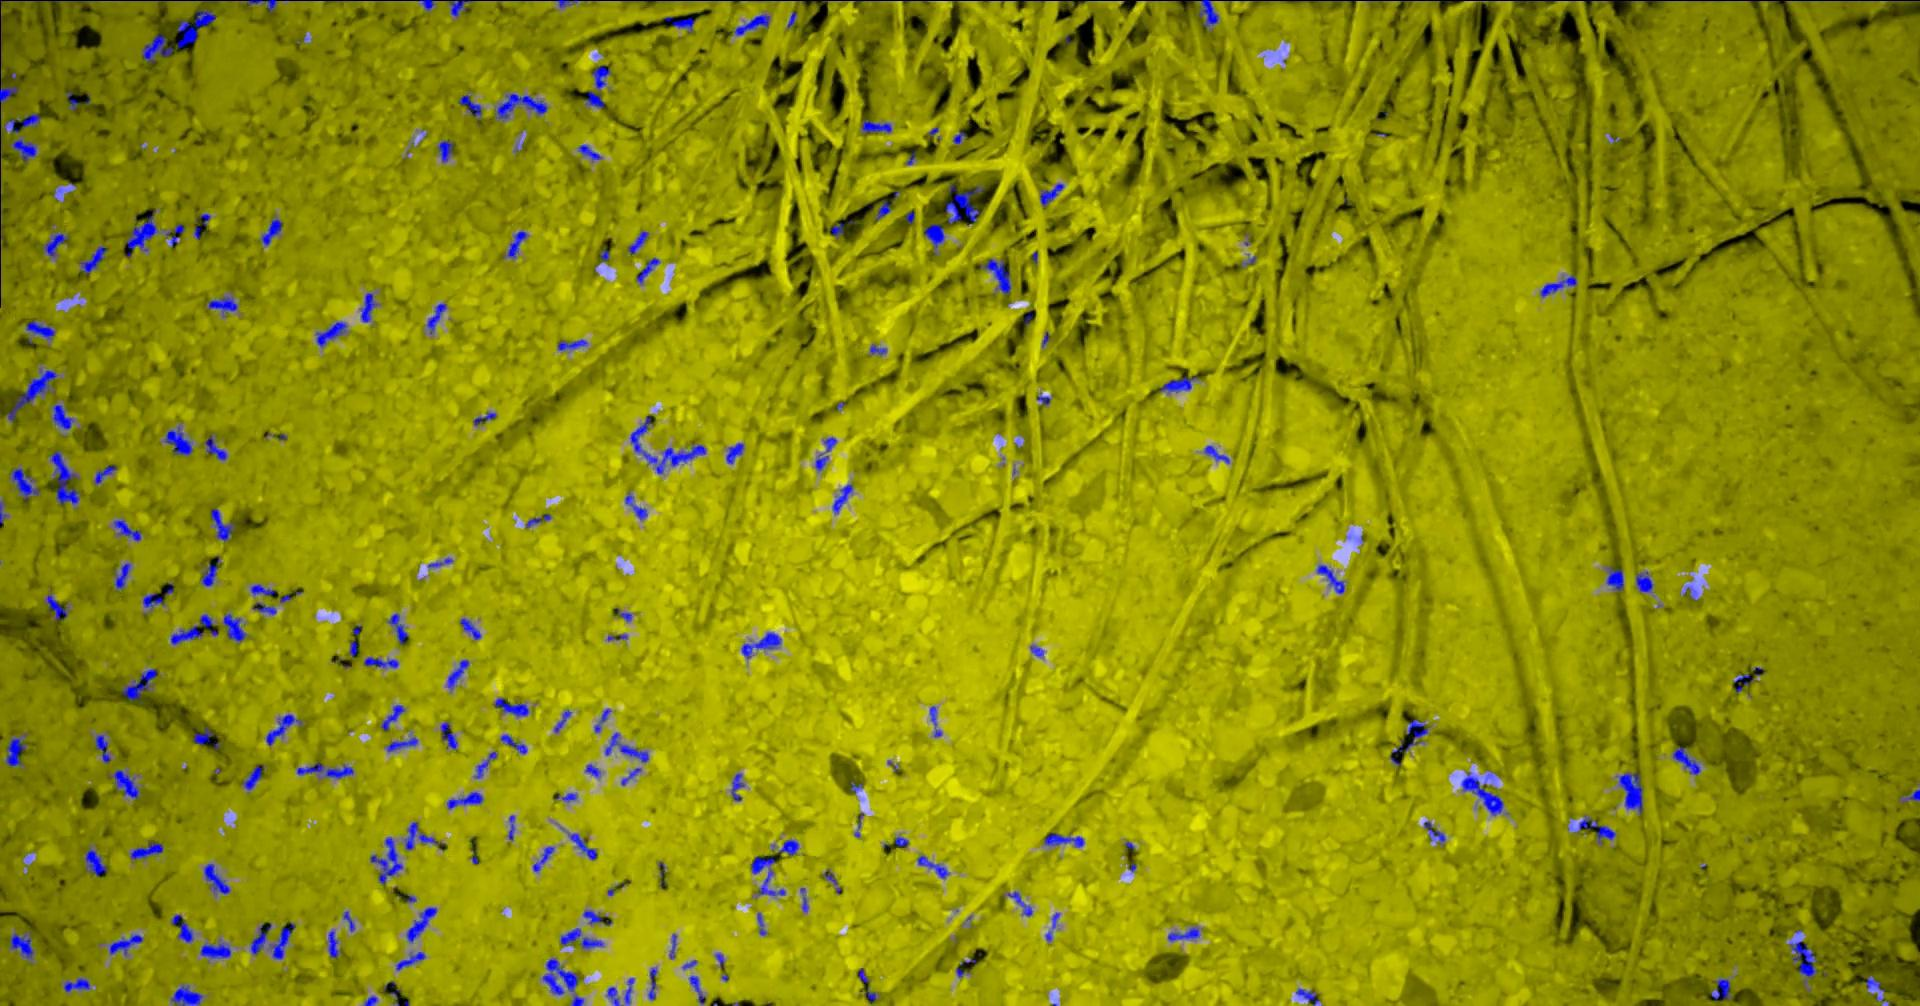ant: (631, 415, 707, 473), (9, 368, 58, 420), (1, 112, 42, 158), (1390, 718, 1429, 766), (1463, 772, 1505, 815), (50, 450, 81, 504), (946, 183, 985, 224), (371, 836, 404, 883), (178, 9, 217, 48), (127, 210, 159, 257), (752, 856, 787, 895), (497, 93, 549, 119), (543, 958, 580, 995), (606, 732, 650, 762), (267, 713, 303, 746), (1790, 940, 1818, 983), (123, 668, 157, 702), (1617, 772, 1644, 813), (408, 906, 438, 942), (406, 821, 446, 848), (982, 258, 1012, 293), (587, 65, 612, 107), (743, 633, 783, 658), (1580, 815, 1617, 843), (298, 762, 356, 779), (270, 922, 296, 959), (11, 467, 41, 499), (110, 768, 141, 798), (204, 862, 232, 894), (143, 34, 174, 62), (563, 927, 604, 948), (1542, 274, 1578, 297), (212, 507, 236, 541), (166, 426, 194, 455), (1318, 564, 1346, 593), (80, 245, 108, 273), (1674, 746, 1702, 774), (317, 321, 348, 347), (735, 14, 771, 36), (608, 977, 635, 1005), (569, 833, 598, 859), (918, 855, 950, 878), (817, 437, 838, 470), (110, 934, 143, 955), (505, 230, 530, 258), (171, 915, 196, 942), (11, 931, 36, 959), (171, 984, 204, 1005), (262, 216, 284, 245), (924, 224, 946, 254), (251, 923, 273, 954), (495, 697, 530, 716), (1161, 376, 1200, 392), (44, 231, 70, 257), (8, 734, 28, 766), (637, 257, 662, 283), (382, 704, 406, 730), (626, 492, 649, 520), (225, 614, 248, 641), (475, 751, 498, 779), (86, 847, 108, 876), (171, 625, 204, 644), (27, 319, 57, 339), (1041, 182, 1065, 207), (1010, 890, 1034, 916), (11, 138, 38, 161), (1199, 0, 1220, 28), (114, 520, 142, 541), (1045, 832, 1084, 847), (210, 296, 239, 316), (428, 304, 448, 333), (834, 484, 855, 513), (389, 614, 409, 643), (450, 659, 470, 688), (448, 791, 484, 808), (132, 841, 165, 859), (460, 94, 483, 119), (206, 434, 229, 460), (47, 593, 70, 619), (243, 765, 265, 790), (202, 558, 222, 586), (1, 76, 20, 105), (397, 951, 427, 970), (535, 846, 555, 873), (502, 734, 530, 753), (1425, 821, 1448, 843), (690, 976, 707, 1005), (53, 404, 74, 429), (362, 292, 378, 323), (630, 230, 650, 254), (1205, 445, 1230, 464), (1170, 926, 1201, 941), (201, 942, 232, 958), (665, 17, 696, 32), (442, 721, 458, 749), (863, 118, 893, 133), (448, 0, 475, 17), (116, 563, 132, 589), (461, 619, 483, 639), (1712, 978, 1733, 998), (1608, 567, 1625, 591), (97, 734, 112, 762), (389, 737, 419, 751), (1735, 673, 1755, 694), (97, 465, 118, 484), (168, 224, 185, 246), (364, 655, 400, 667), (555, 709, 573, 732), (596, 708, 612, 732), (825, 869, 842, 893), (1297, 988, 1321, 1005), (876, 199, 895, 220), (931, 705, 943, 735), (728, 442, 745, 464), (143, 592, 166, 608), (329, 930, 343, 956), (65, 977, 91, 991), (579, 144, 603, 159), (248, 0, 279, 11), (957, 958, 977, 977), (1637, 572, 1655, 592), (622, 767, 643, 785), (527, 513, 552, 527), (439, 140, 455, 163), (559, 339, 589, 351), (196, 727, 215, 744), (733, 774, 745, 800), (584, 909, 608, 923), (253, 602, 278, 615), (475, 412, 498, 426), (1865, 976, 1884, 992), (780, 840, 800, 855), (649, 967, 658, 998), (251, 583, 276, 594), (69, 91, 83, 111), (1900, 789, 1920, 801), (758, 912, 768, 935), (344, 911, 356, 931), (830, 221, 844, 238), (585, 763, 602, 777), (429, 558, 455, 567), (201, 614, 215, 627), (557, 793, 579, 801), (197, 213, 212, 225), (660, 861, 667, 888), (557, 0, 579, 8), (420, 0, 436, 10), (509, 815, 516, 840), (871, 345, 888, 354), (897, 836, 910, 846), (571, 995, 585, 1005), (364, 995, 378, 1005), (350, 641, 359, 655), (32, 0, 100, 1)
